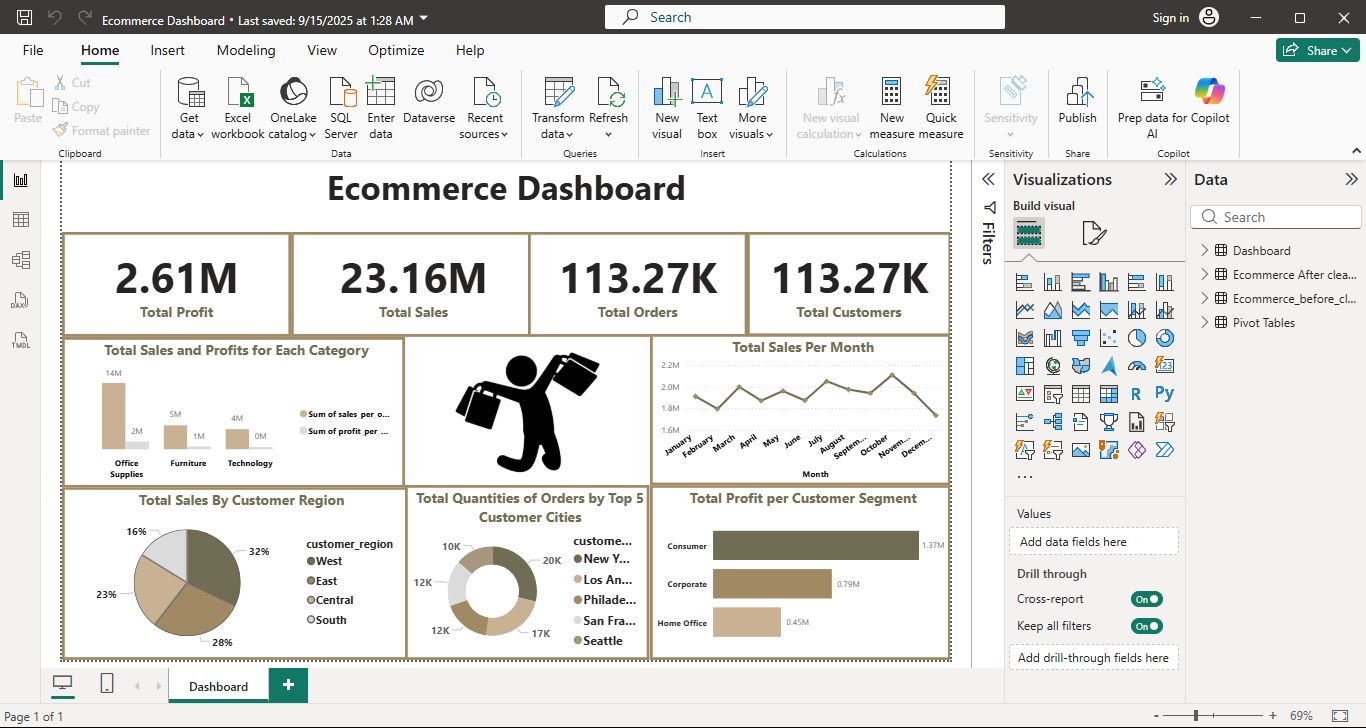

Layout of this report page (visuals, bound fields, positions):
{"tool":"powerbi","page":{"name":"Dashboard","canvas":[1280,720],"ordinal":0},"visuals":[{"type":"textbox","box":[0,0,1280,103],"z":0},{"type":"card","fields":{"Values":["Sum(Ecommerce After cleaning.sales_per_order)"]},"box":[329.8,103.7,352.8,151.2],"z":1000},{"type":"card","fields":{"Values":["Sum(Ecommerce After cleaning.profit_per_order)"]},"box":[0,103,330,150.7],"z":2000},{"type":"card","fields":{"Values":["CountNonNull(Ecommerce After cleaning.order_id)"]},"box":[671.3,103.7,315.8,151],"z":3000},{"type":"card","fields":{"Values":["CountNonNull(Ecommerce After cleaning.customer_id)"]},"box":[986.4,103.7,293.8,149.8],"z":4000},{"type":"clusteredBarChart","title":"Total Profit per Customer Segment","fields":{"Category":["Ecommerce After cleaning.customer_segment"],"Y":["Sum(Ecommerce After cleaning.profit_per_order)"]},"box":[846.7,468.4,433.3,251.7],"z":5000},{"type":"pieChart","title":"Total Sales By Customer Region","fields":{"Category":["Ecommerce After cleaning.customer_region"],"Y":["Sum(Ecommerce After cleaning.sales_per_order)"]},"box":[0,471.4,509.6,248.7],"z":6000},{"type":"donutChart","title":"Total Quantities of Orders by Top 5 Customer Cities","fields":{"Category":["Ecommerce After cleaning.customer_city"],"Y":["Sum(Ecommerce After cleaning.order_quantity)"]},"box":[494.3,468.4,352.4,251.7],"z":7000},{"type":"lineChart","title":"Total Sales Per Month","fields":{"Y":["Sum(Ecommerce After cleaning.sales_per_order)"],"Category":["Ecommerce After cleaning.order_date.Variation.Date Hierarchy.Month"]},"box":[846.7,250.2,433.3,218.2],"z":8000},{"type":"lineClusteredColumnComboChart","title":"Total Sales and Profits for Each Category","fields":{"Y":["Sum(Ecommerce After cleaning.sales_per_order)","Sum(Ecommerce After cleaning.profit_per_order)"],"Category":["Ecommerce After cleaning.category_name"]},"box":[0,254.8,494.3,216.6],"z":9000},{"type":"image","box":[494.3,254.8,352.4,216.6],"z":9001}]}

Visuals, with their boxes on the page's 1280x720 design canvas (x1, y1, x2, y2). These are canvas units, not pixel positions in the 1366x728 screenshot, which may show the page scaled, cropped or inside an application window:
textbox: <box>0,0,1280,103</box>
card - Sum(Ecommerce After cleaning.sales_per_order): <box>330,104,683,255</box>
card - Sum(Ecommerce After cleaning.profit_per_order): <box>0,103,330,254</box>
card - CountNonNull(Ecommerce After cleaning.order_id): <box>671,104,987,255</box>
card - CountNonNull(Ecommerce After cleaning.customer_id): <box>986,104,1280,254</box>
"Total Profit per Customer Segment" clusteredBarChart: <box>847,468,1280,720</box>
"Total Sales By Customer Region" pieChart: <box>0,471,510,720</box>
"Total Quantities of Orders by Top 5 Customer Cities" donutChart: <box>494,468,847,720</box>
"Total Sales Per Month" lineChart: <box>847,250,1280,468</box>
"Total Sales and Profits for Each Category" lineClusteredColumnComboChart: <box>0,255,494,471</box>
image: <box>494,255,847,471</box>
